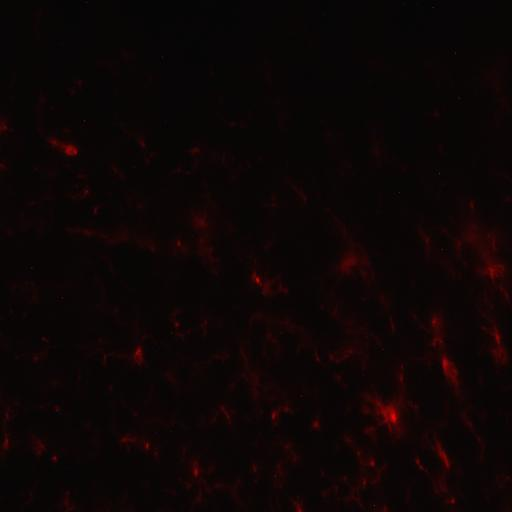microglia: (210, 141, 259, 185), (375, 401, 406, 434), (330, 346, 370, 366), (435, 350, 458, 379), (244, 365, 262, 401), (10, 280, 42, 300), (290, 179, 310, 205), (340, 254, 358, 274), (333, 371, 348, 392), (111, 165, 127, 181), (65, 77, 76, 100), (119, 432, 136, 446), (194, 214, 208, 230), (63, 492, 74, 512), (49, 132, 60, 152), (220, 402, 231, 422), (103, 382, 118, 396), (262, 278, 273, 297), (493, 328, 503, 347), (278, 281, 289, 298), (313, 350, 323, 368), (488, 233, 497, 252), (294, 384, 306, 398), (274, 462, 285, 477), (229, 114, 238, 132), (129, 407, 140, 421), (190, 143, 200, 156), (294, 499, 304, 512), (269, 410, 279, 422), (65, 141, 73, 156), (20, 311, 30, 323), (442, 453, 450, 467), (320, 487, 330, 498), (253, 272, 261, 285), (0, 119, 8, 132), (468, 199, 476, 211), (284, 404, 292, 416), (135, 345, 142, 358), (8, 305, 15, 318), (152, 450, 161, 460), (83, 228, 92, 238), (364, 427, 374, 436), (320, 468, 329, 478), (192, 466, 200, 477), (139, 139, 147, 150), (416, 456, 422, 470), (342, 471, 348, 485), (174, 239, 183, 248), (398, 373, 406, 383), (332, 442, 340, 452), (4, 436, 10, 449), (490, 267, 496, 279), (425, 234, 431, 246), (284, 443, 292, 452), (311, 421, 319, 429), (103, 350, 107, 366), (148, 245, 156, 253), (38, 443, 47, 450), (201, 318, 208, 327), (83, 186, 89, 196), (252, 464, 258, 474), (143, 442, 151, 449), (363, 478, 370, 486), (93, 207, 100, 215), (53, 405, 61, 412), (456, 239, 462, 248), (208, 246, 214, 255), (382, 503, 388, 512), (52, 454, 58, 462), (451, 496, 456, 505), (0, 159, 4, 170), (432, 318, 438, 325), (371, 460, 376, 468), (174, 320, 179, 328), (356, 450, 362, 456), (41, 336, 47, 342), (33, 355, 39, 361), (345, 437, 351, 443), (5, 412, 10, 419), (74, 148, 78, 156), (199, 238, 203, 245), (293, 457, 297, 463)
